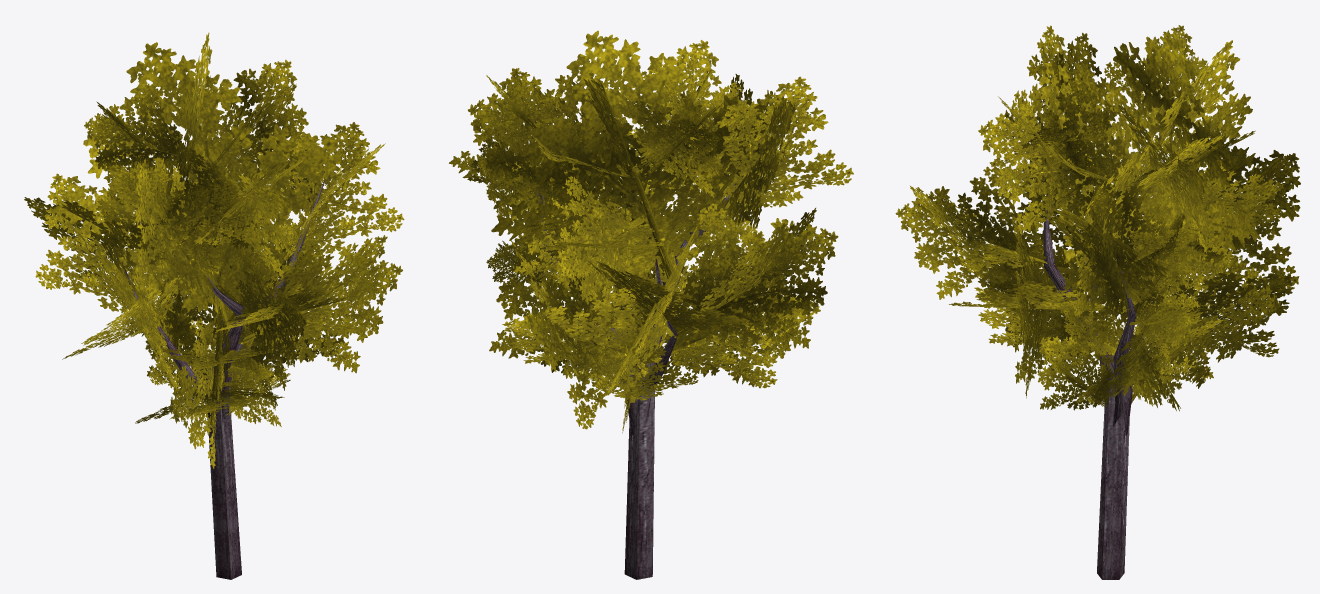
The model's file is tree_A.FBX.
The picture shows the model from 3 angles, left to right: view 1: azimuth 30°, elevation 25°; view 2: azimuth 150°, elevation 25°; view 3: azimuth 270°, elevation 25°; orthographic projection. The views are drawn at different scales.
Parts seen in each view (by area): view 1: OPAQUE01; view 2: OPAQUE01; view 3: OPAQUE01.
Part boxes in pixels (x1,y1,x2,y2): OPAQUE01: (24, 32, 404, 579); OPAQUE01: (449, 30, 853, 579); OPAQUE01: (895, 25, 1300, 579).
Bounding box in the file's own units: 22.35 × 34.85 × 23.48.
